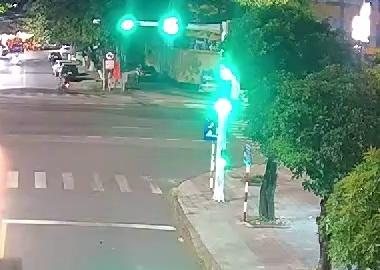green_light: (214, 81, 232, 115), (161, 12, 183, 38), (116, 15, 137, 37)
